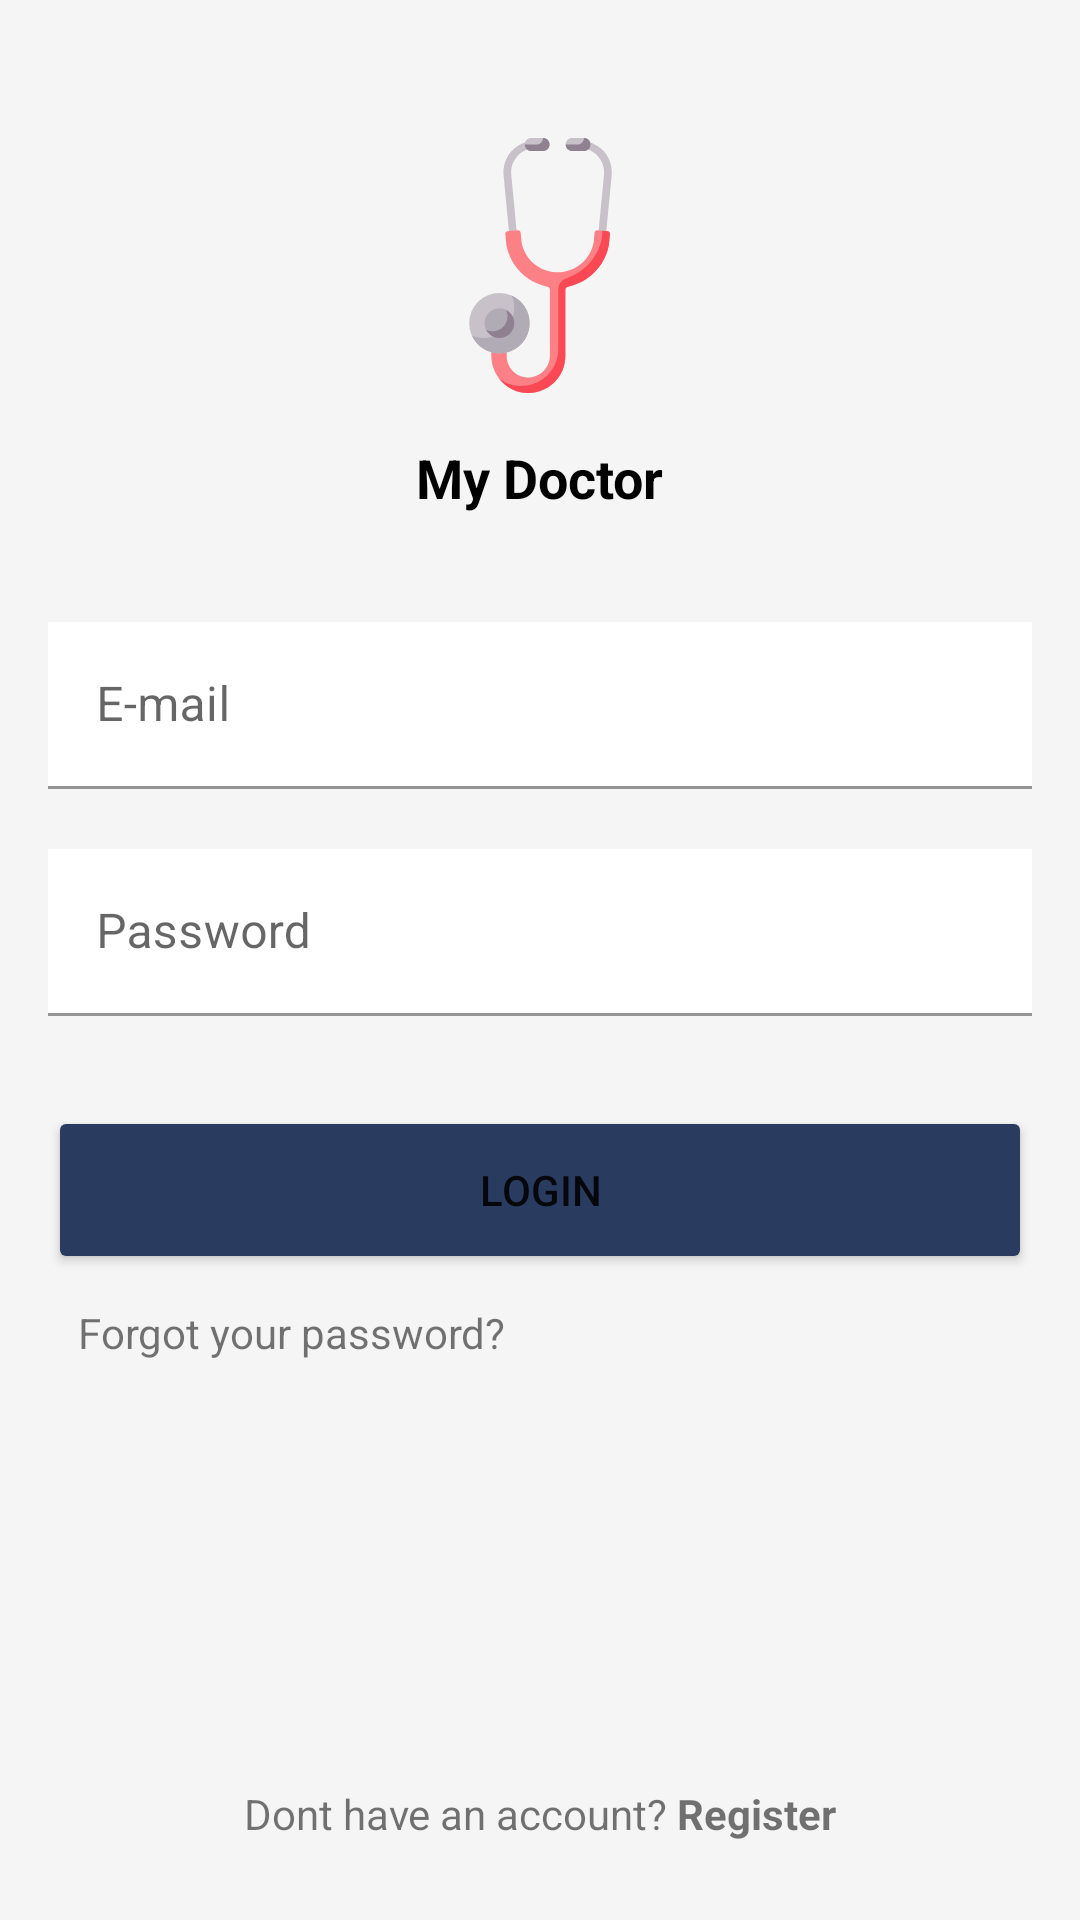

Named icons in this screenshot (1080*1920) and their bounding boxes, (left=x1, top=y1, right=x2, bottom=y2):
stethoscope: (left=469, top=138, right=612, bottom=393)
